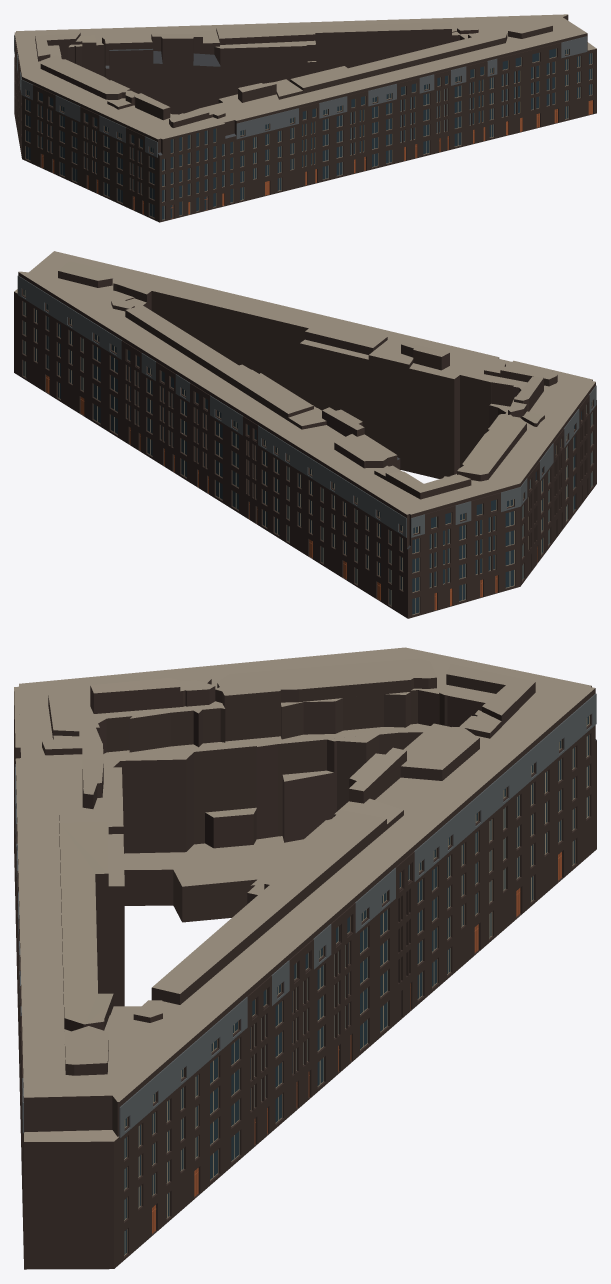
File: recipe-large-borneostraat-42-70-253816.glb
3 renders of one model, top to bottom at view 1: azimuth 30°, elevation 25°; view 2: azimuth 150°, elevation 25°; view 3: azimuth 270°, elevation 25°, orthographic. The views are drawn at different scales.
Parts seen in each view (by area): view 1: borneostraat-42-70-253816; view 2: borneostraat-42-70-253816; view 3: borneostraat-42-70-253816.
Boxes of the visible parts, left/top/right/bottom form: borneostraat-42-70-253816: left=14, top=14, right=596, bottom=222; borneostraat-42-70-253816: left=14, top=251, right=596, bottom=618; borneostraat-42-70-253816: left=14, top=647, right=596, bottom=1269.
Size of the model in its own units: 96.33 by 18.03 by 51.59.
